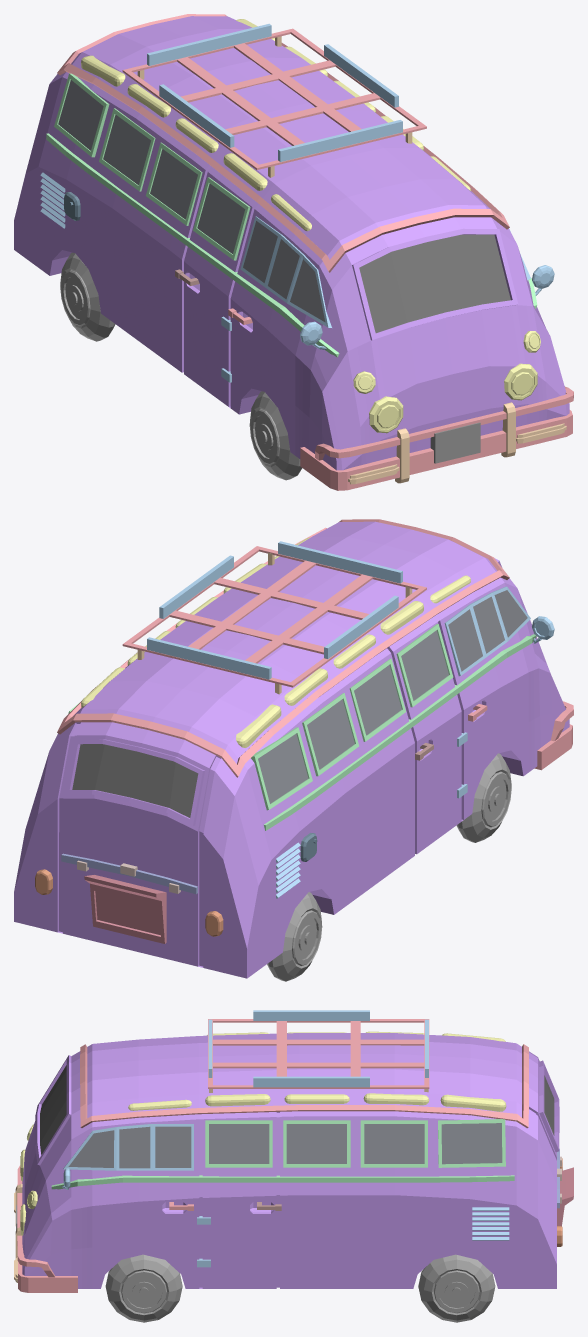
Rendered from bilun - purple bus.fbx.
The picture shows the model from 3 angles, top to bottom: view 1: azimuth 30°, elevation 25°; view 2: azimuth 150°, elevation 25°; view 3: azimuth 270°, elevation 25°; orthographic projection. The views are drawn at different scales.
Parts seen in each view (by area): view 1: Cube, Cube.001, Plane, Cube.009, Circle, Cube.008, Cube.003, Cube.010, Cube.007, Cylinder.001, Cube.002, Cube.012 (+4 smaller); view 2: Cube, Cube.001, Plane, Cube.009, Cube.008, Circle, Cube.003, Cube.007, Cube.015, Cube.002, Cube.017, Cube.006 (+2 smaller); view 3: Cube, Cube.001, Circle, Plane, Cube.003, Cube.008, Cube.007, Cube.009, Cube.002, Cube.010, Cube.006, Cube.011 (+2 smaller).
Boxes of the visible parts, box(x1,y1,x2,y2) form: Cube: box(14, 16, 569, 470); Cube.001: box(54, 73, 250, 260); Plane: box(122, 28, 426, 169); Cube.009: box(147, 23, 402, 161); Circle: box(60, 252, 302, 480); Cube.008: box(57, 14, 509, 272); Cube.003: box(240, 216, 530, 327); Cube.010: box(300, 410, 572, 490); Cube.007: box(81, 19, 470, 231); Cylinder.001: box(353, 331, 540, 433); Cube.002: box(46, 133, 537, 357); Cube.012: box(348, 402, 566, 484); Cube: box(14, 521, 569, 978); Cube.001: box(68, 624, 453, 810); Plane: box(122, 546, 426, 687); Cube.009: box(147, 541, 402, 679); Cube.008: box(57, 519, 509, 777); Circle: box(267, 753, 511, 981); Cube.003: box(444, 586, 530, 676); Cube.007: box(81, 537, 470, 747); Cube.015: box(84, 875, 166, 943); Cube.002: box(264, 634, 536, 830); Cube.017: box(61, 853, 197, 894); Cube.006: box(276, 842, 300, 898); Cube: box(22, 1033, 559, 1288); Cube.001: box(205, 1119, 505, 1167); Circle: box(105, 1254, 495, 1322); Plane: box(208, 1019, 429, 1088); Cube.003: box(63, 1124, 193, 1170); Cube.008: box(80, 1044, 528, 1128); Cube.007: box(128, 1031, 506, 1111); Cube.009: box(208, 1010, 428, 1087); Cube.002: box(51, 1175, 514, 1189); Cube.010: box(18, 1261, 77, 1292); Cube.006: box(472, 1207, 509, 1240); Cube.011: box(17, 1165, 55, 1277).
Size of the model in its own units: 224 by 242 by 518.
